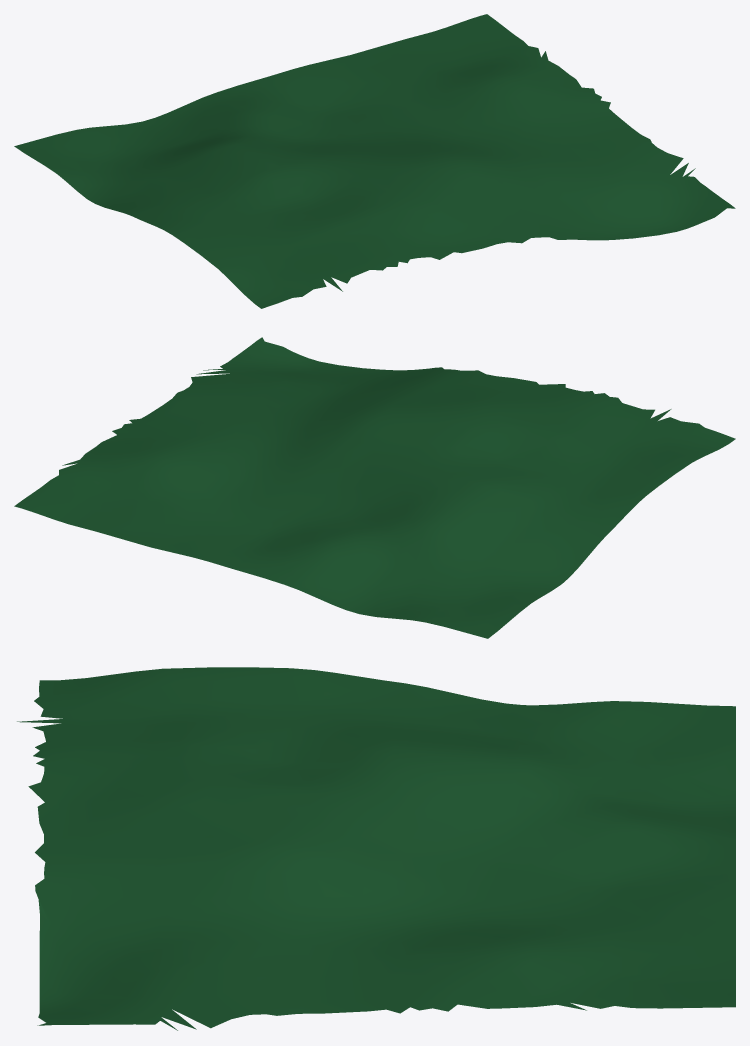
Rendered from payo_land_x3_ym4_lod1.glb.
3 views of the same model, one above another, from view 1: azimuth 30°, elevation 25°; view 2: azimuth 150°, elevation 25°; view 3: azimuth 270°, elevation 25° (orthographic). The views are drawn at different scales.
Visible parts, largest first — view 1: payo_land_x3_ym4; view 2: payo_land_x3_ym4; view 3: payo_land_x3_ym4.
Boxes of the visible parts, box(x1,y1,x2,y2) form: payo_land_x3_ym4: box(14, 14, 735, 308); payo_land_x3_ym4: box(14, 337, 735, 638); payo_land_x3_ym4: box(17, 667, 735, 1030).
Size of the model in its own units: 261 by 22.57 by 240.
